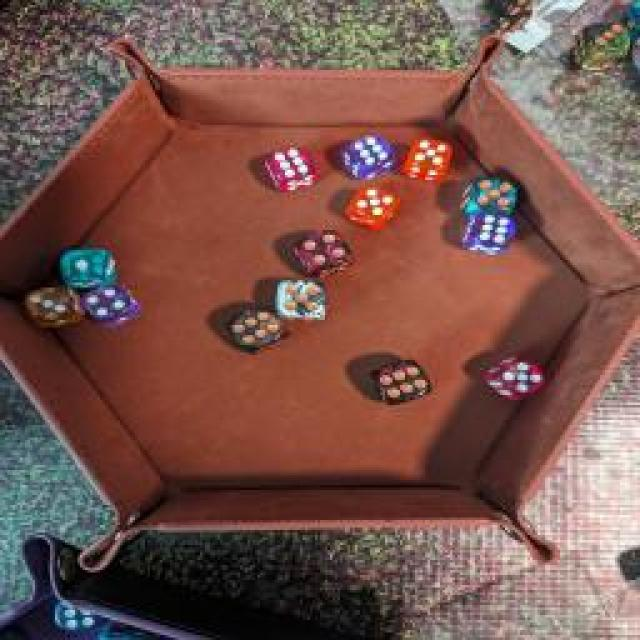dice_1: (55, 246, 120, 289)
dice_3: (19, 285, 86, 325)
dice_4: (286, 225, 356, 280), (83, 282, 145, 326)
dice_5: (485, 351, 550, 404), (270, 276, 338, 324), (342, 180, 406, 230), (400, 134, 458, 184), (455, 176, 523, 216)
dice_6: (368, 355, 438, 405), (222, 302, 286, 352), (260, 146, 325, 189), (335, 135, 397, 180), (462, 214, 516, 258)
